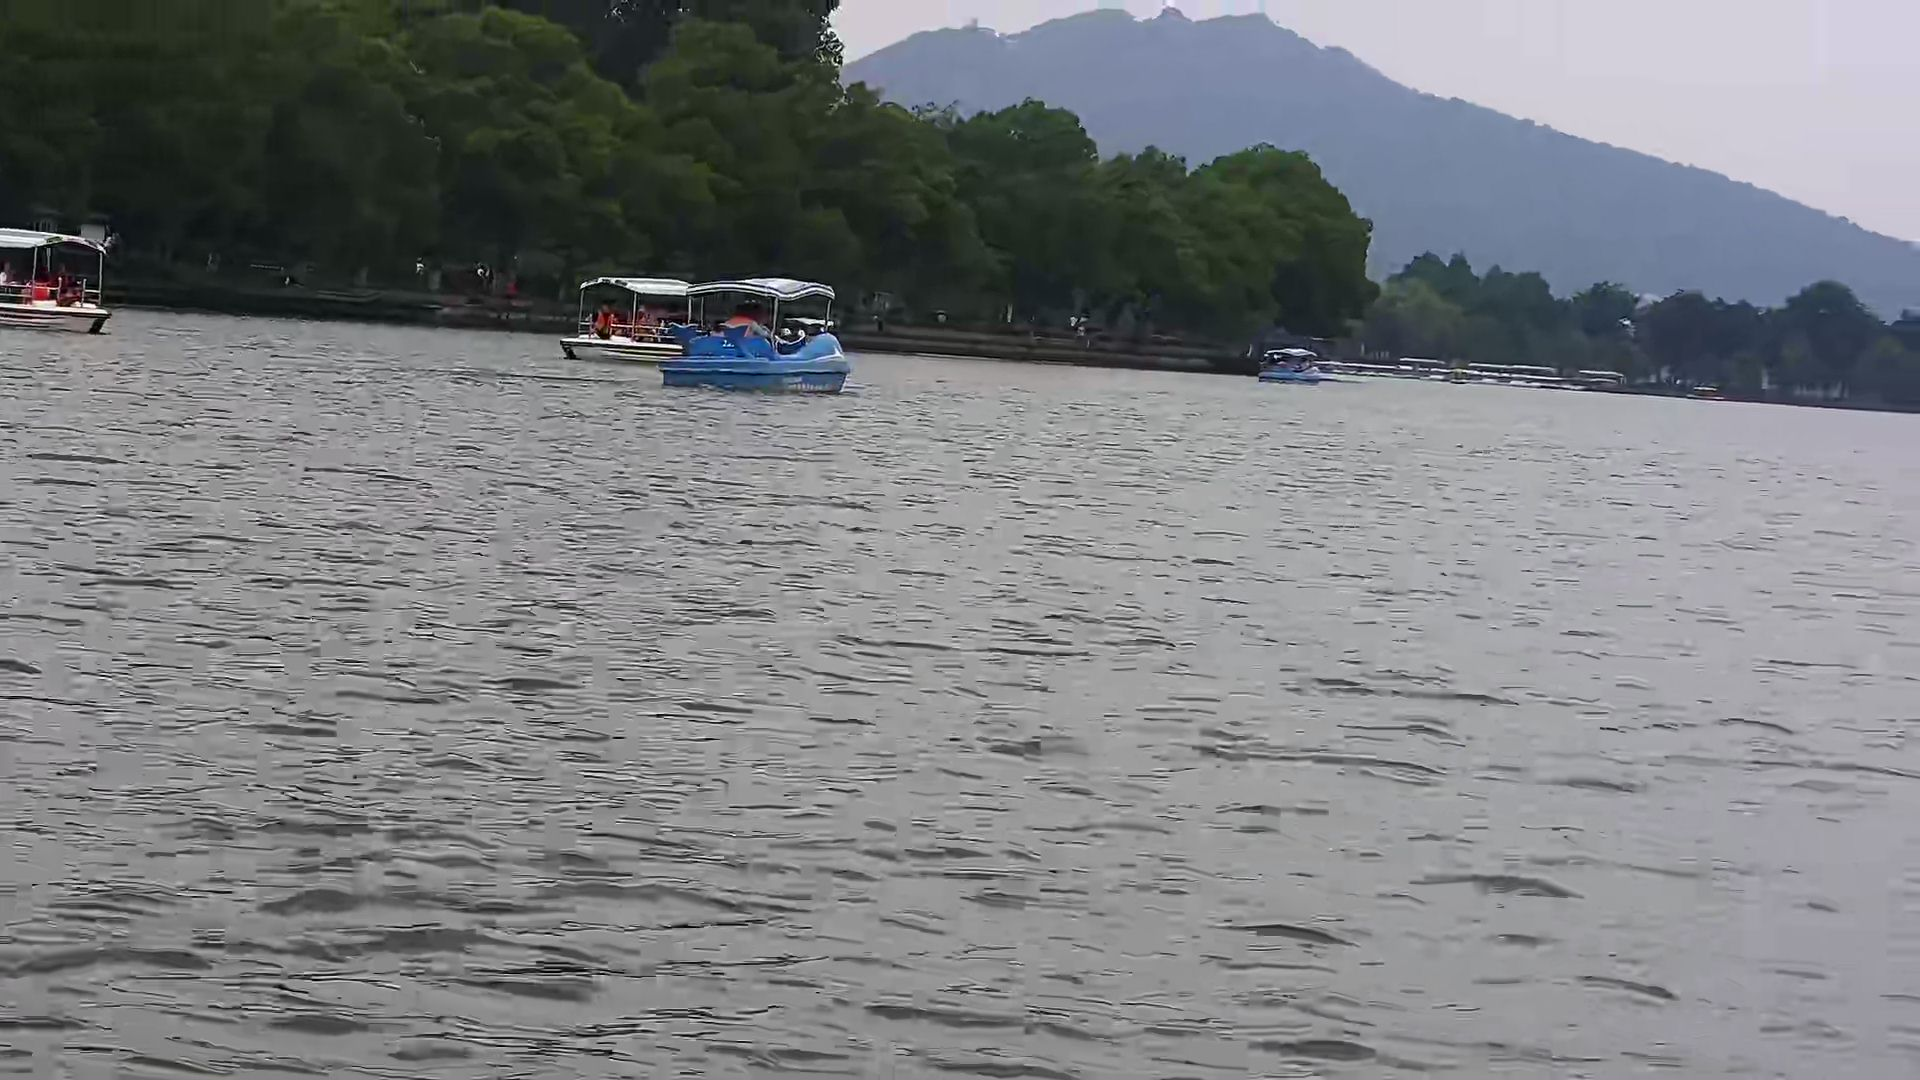boat: (649, 261, 862, 405), (1, 218, 129, 345), (553, 262, 695, 367), (1247, 334, 1340, 392)
